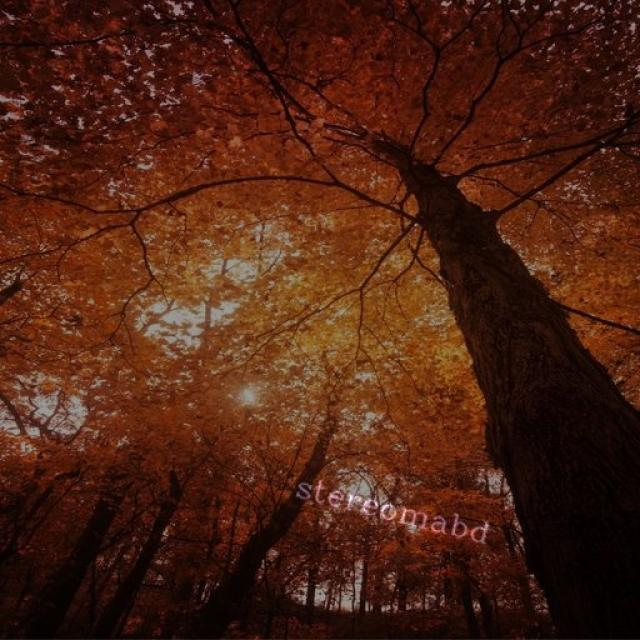watermark: (286, 471, 509, 549)
